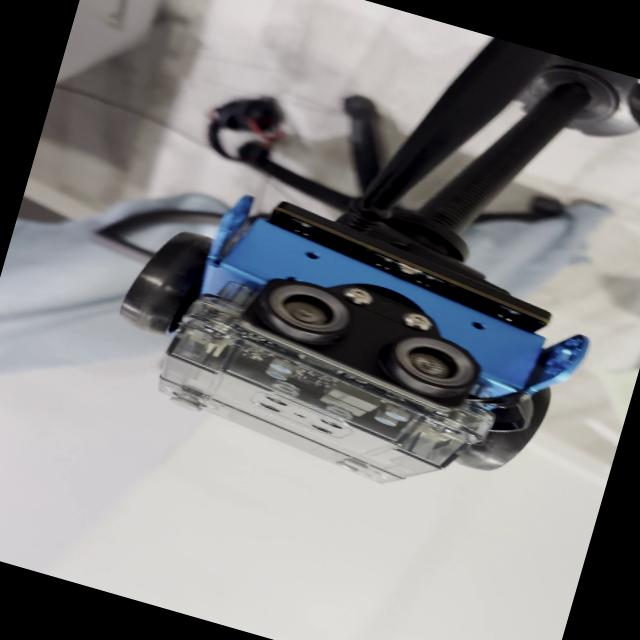mbot-detection: (82, 152, 616, 542)
